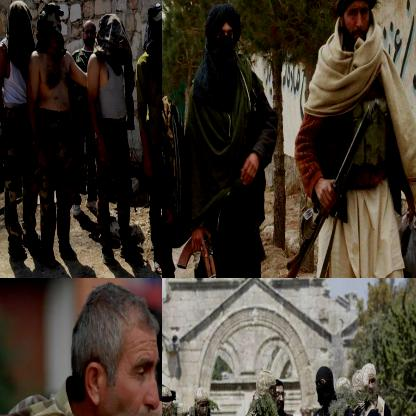rifle: (275, 96, 383, 277), (177, 222, 231, 277)
